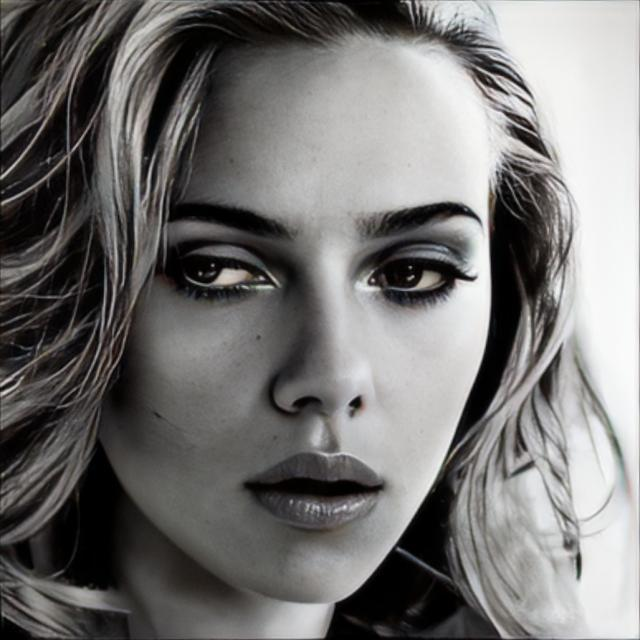neutral: (96, 16, 494, 602)
